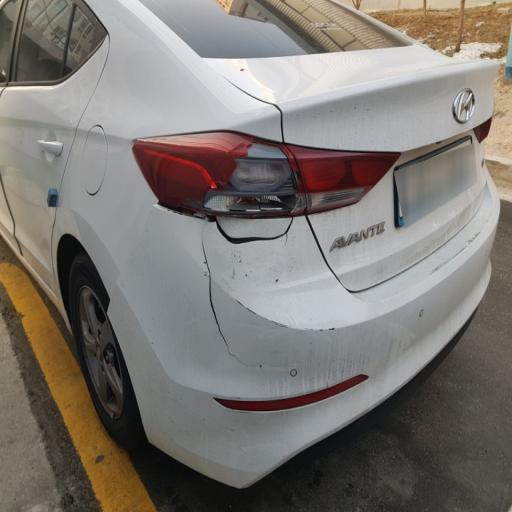broken: (180, 72, 355, 356)
